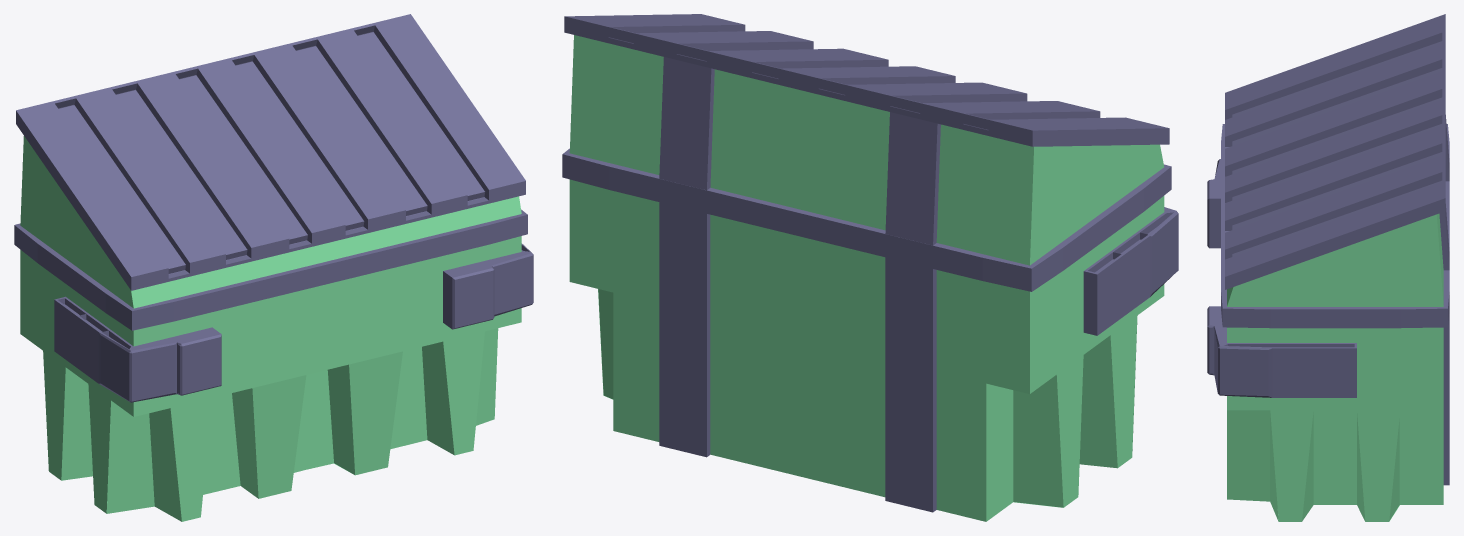
Rendered from Dumpster.fbx.
The picture shows the model from 3 angles, left to right: view 1: azimuth 30°, elevation 25°; view 2: azimuth 150°, elevation 25°; view 3: azimuth 270°, elevation 25°; orthographic projection. The views are drawn at different scales.
Parts seen in each view (by area): view 1: Benne à ordure; view 2: Benne à ordure; view 3: Benne à ordure.
Boxes of the visible parts, x1=… form: Benne à ordure: x1=14, y1=14, x2=533, y2=521; Benne à ordure: x1=562, y1=14, x2=1178, y2=521; Benne à ordure: x1=1207, y1=14, x2=1449, y2=521.
Bounding box in the file's own units: 419 × 332 × 224.
